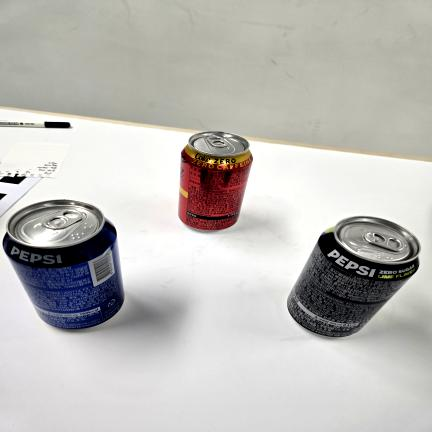can_coke_zero: (177, 131, 253, 232)
can_pepsi: (1, 199, 125, 333)
can_pepsi_zero: (285, 218, 423, 340)
